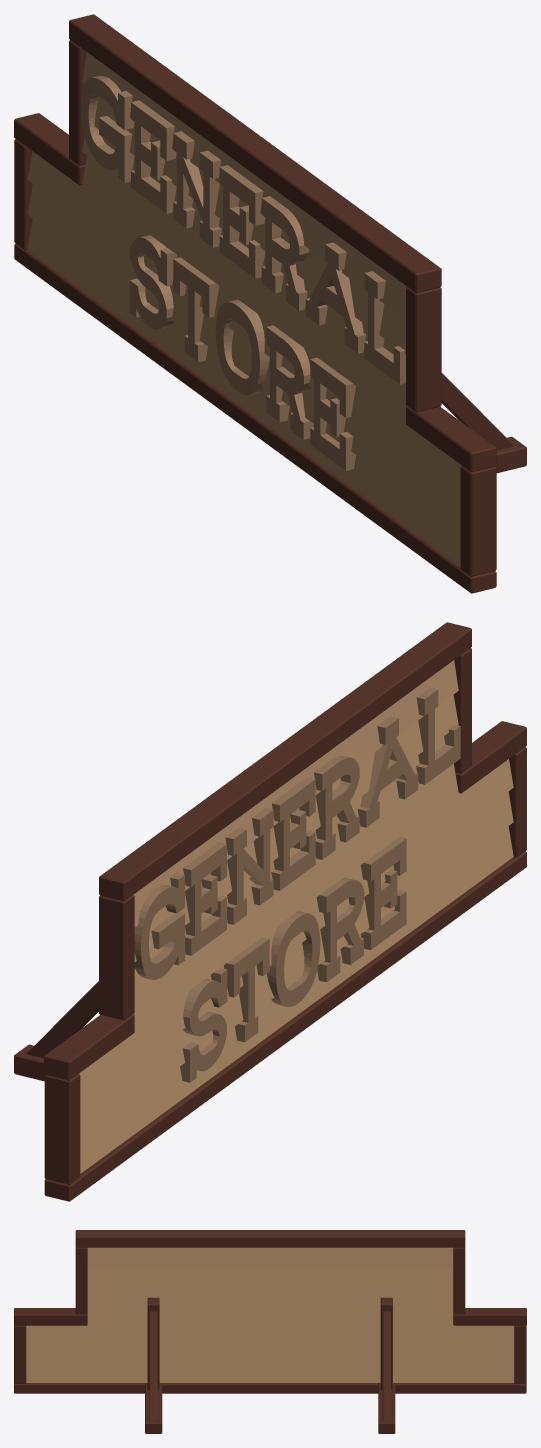
Rendered from General Sign C.glb.
The picture shows the model from 3 angles, top to bottom: view 1: azimuth 30°, elevation 25°; view 2: azimuth 150°, elevation 25°; view 3: azimuth 270°, elevation 25°; orthographic projection. The views are drawn at different scales.
Visible parts, largest first — view 1: General Sign C; view 2: General Sign C; view 3: General Sign C.
Part boxes in pixels (x1,y1,x2,y2): General Sign C: [14, 14, 526, 593]; General Sign C: [14, 622, 526, 1201]; General Sign C: [14, 1230, 526, 1433].
Bounding box in the file's own units: 0.5852 × 0.8908 × 2.64.
